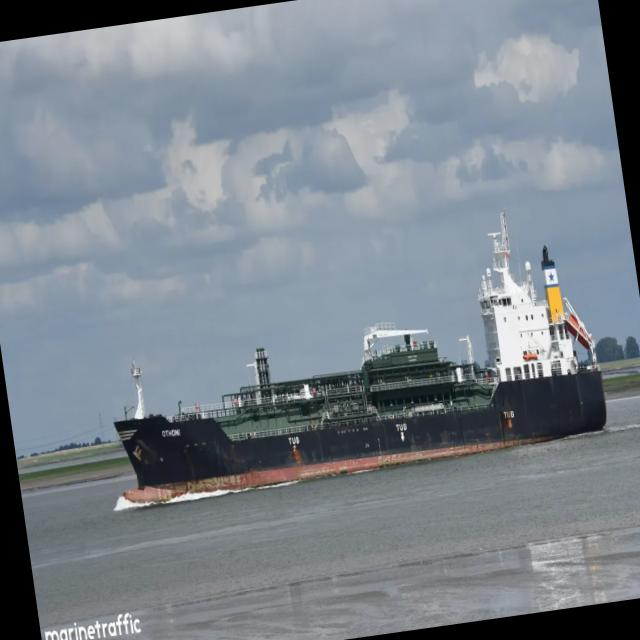Tanker: (114, 213, 605, 493)
